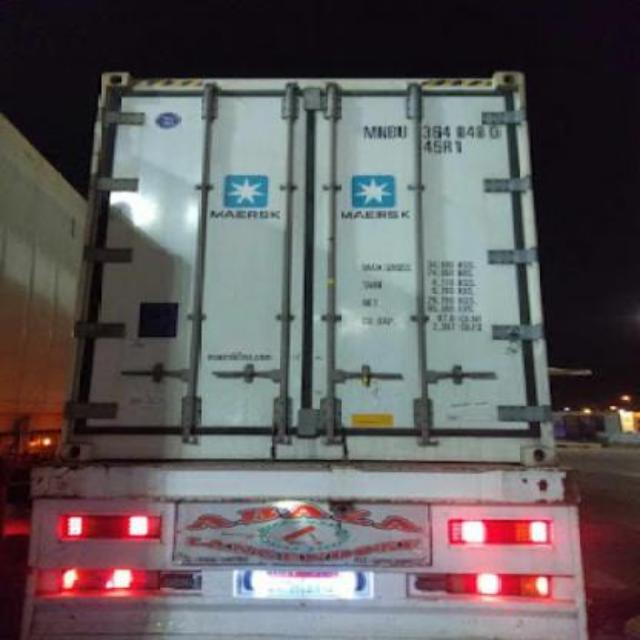0: (486, 125, 502, 138), (456, 124, 466, 140)
3: (422, 123, 434, 139)
4: (464, 123, 478, 141), (442, 123, 454, 141)
6: (432, 124, 442, 140)
8: (476, 125, 488, 138)
B: (388, 123, 398, 141)
M: (360, 123, 380, 141)
N: (378, 124, 390, 140)
U: (396, 124, 409, 140)
